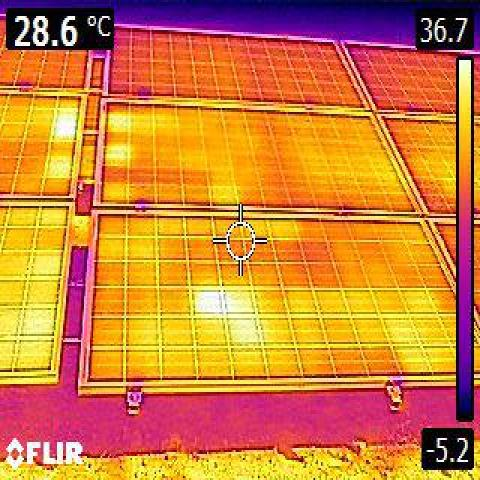fault: (227, 292, 252, 313), (234, 321, 257, 343), (195, 291, 219, 309), (59, 107, 78, 124), (56, 126, 76, 140)
